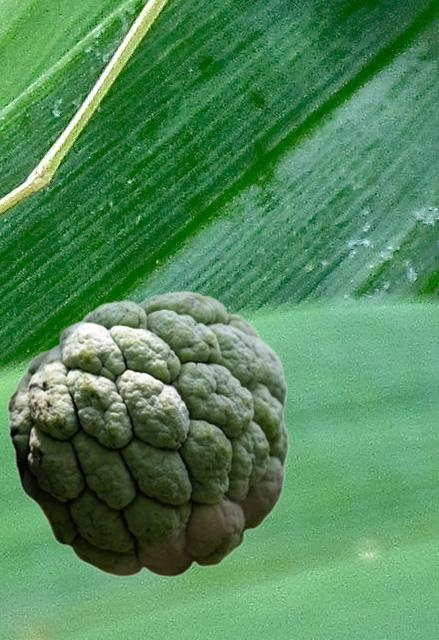atis: (6, 290, 289, 577)
